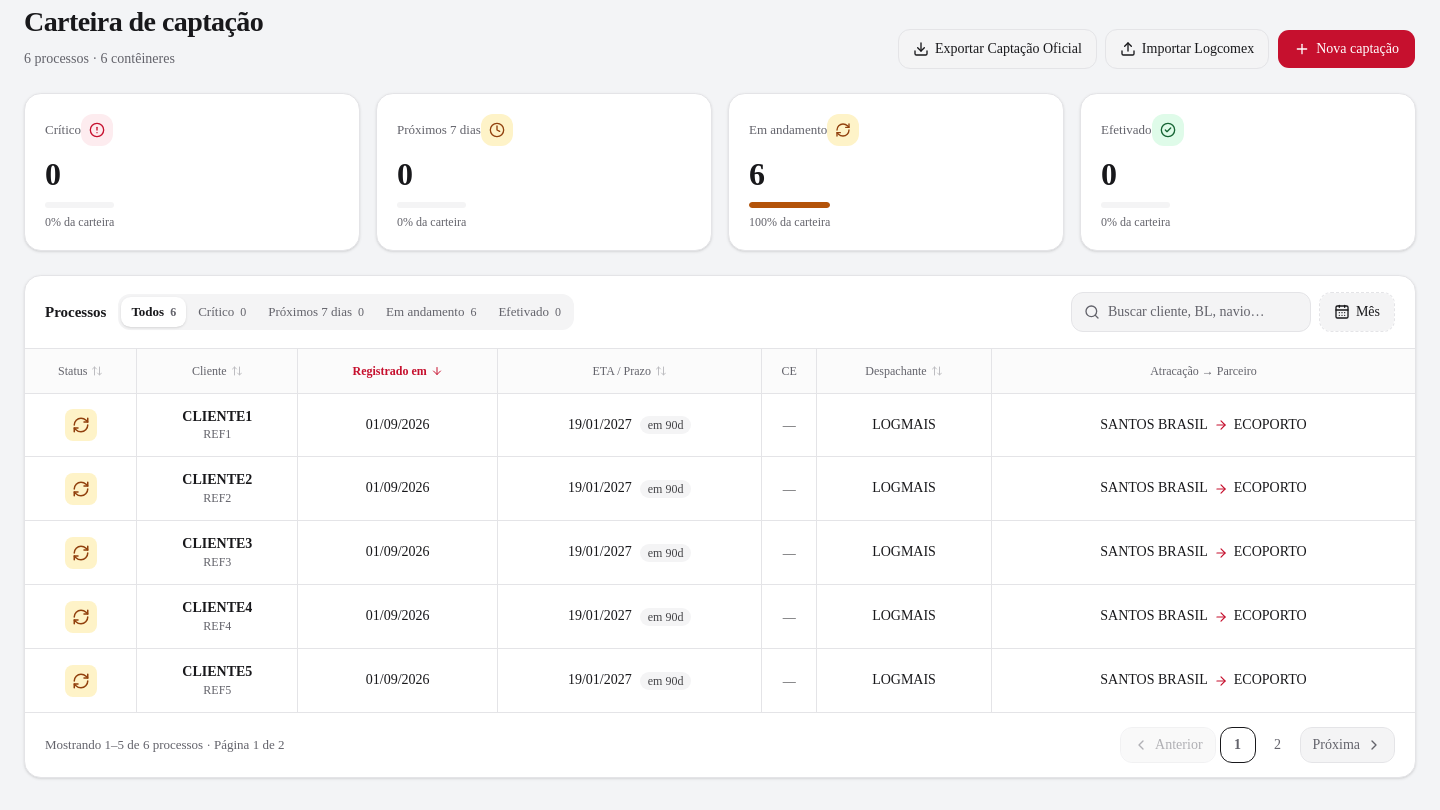
Test case: CarteiraPage › pagina a tabela de processos de 5 em 5, igual ao Histórico
(page scrolled)
Expected: the text "CLIENTE1" is shown, [182,408,252,424]
Expected: the text "CLIENTE5" is shown, [182,664,252,679]
Click the button "Próxima": {"x": 1347, "y": 745} [1300,727,1395,763]
(page scrolled)
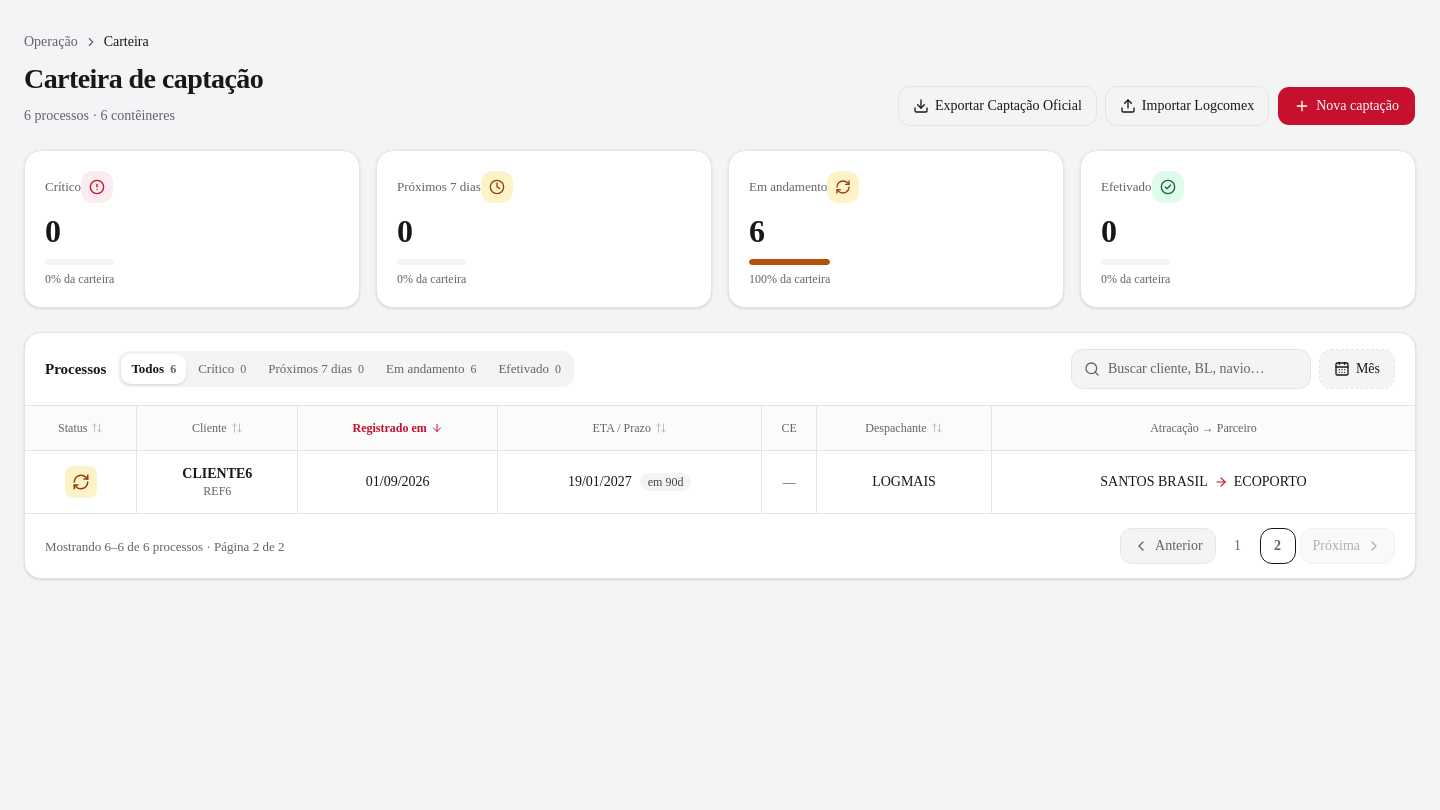
Expected: the text "CLIENTE6" is shown, [182,466,252,480]
Expected: the text "CLIENTE1" is gone
Expected: the text "Mostrando 6–6 de 6 processos · Página 2 de 2" is shown, [45,537,284,556]
